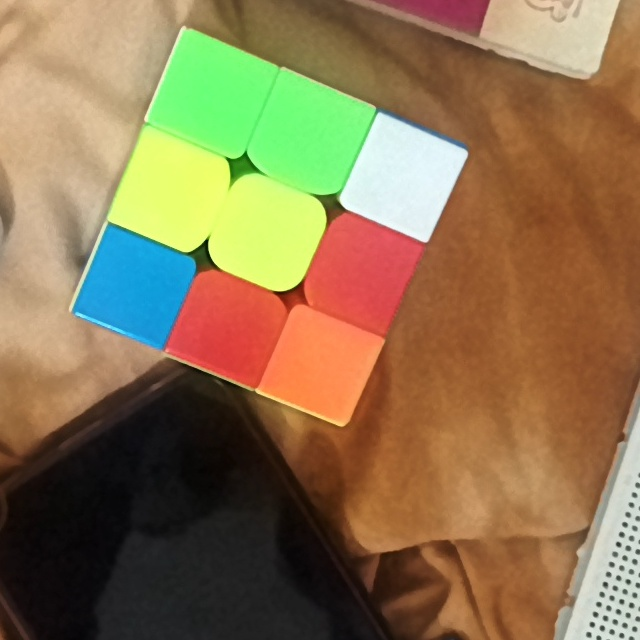tile: (172, 62, 249, 133), (270, 103, 348, 172), (233, 197, 306, 268), (137, 159, 212, 228), (98, 255, 173, 323), (286, 330, 358, 400), (367, 147, 440, 216), (194, 293, 263, 363), (330, 240, 401, 308)
